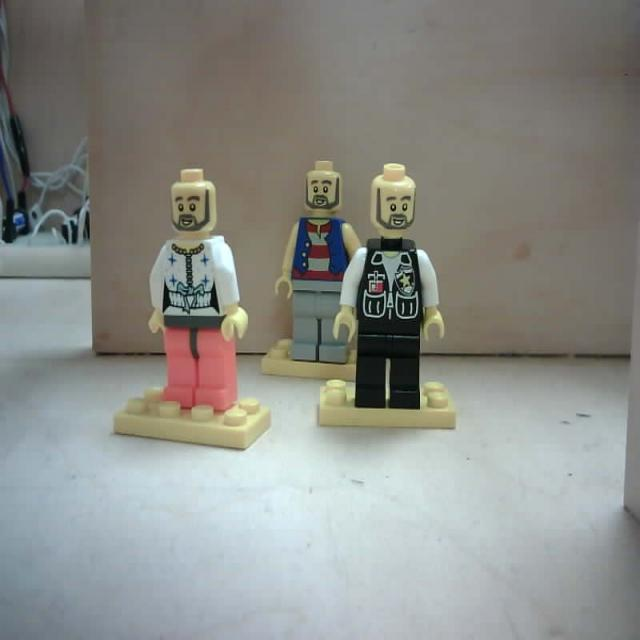Lego-People: (112, 162, 273, 461), (312, 154, 469, 438), (259, 151, 372, 389)
